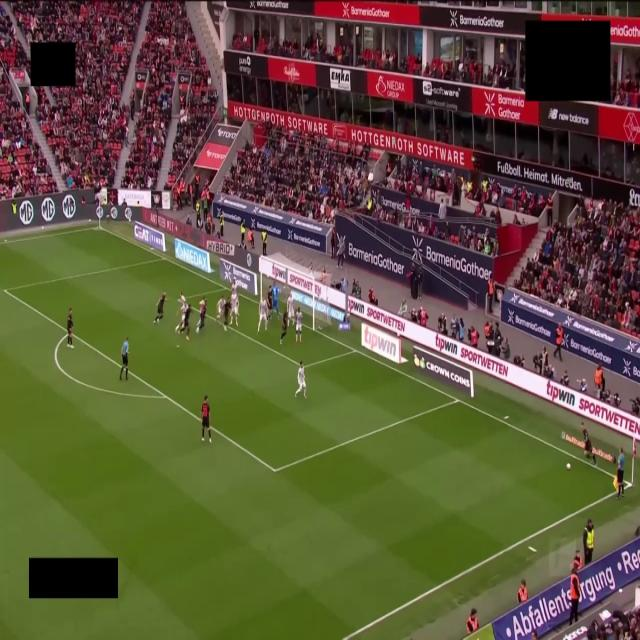ball: (567, 464, 570, 470)
player: (581, 422, 597, 465), (176, 293, 188, 332), (201, 396, 211, 442), (195, 297, 207, 333), (295, 361, 306, 398), (180, 304, 191, 340), (154, 292, 165, 323), (271, 282, 280, 317), (258, 298, 267, 333), (280, 312, 288, 344), (295, 308, 302, 343), (67, 308, 73, 348), (231, 292, 238, 326), (224, 299, 231, 330), (287, 293, 294, 322), (217, 298, 225, 322), (267, 286, 272, 319), (231, 278, 237, 294)
referee: (617, 448, 624, 498), (120, 338, 128, 380)
